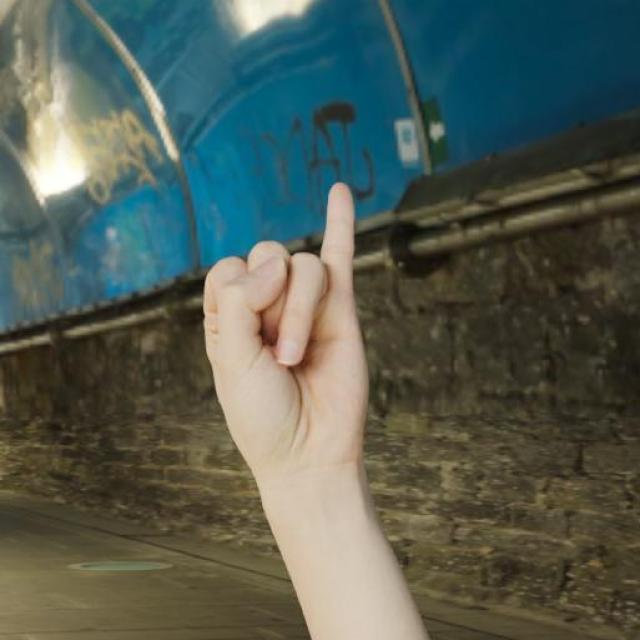I: (169, 162, 395, 540)
